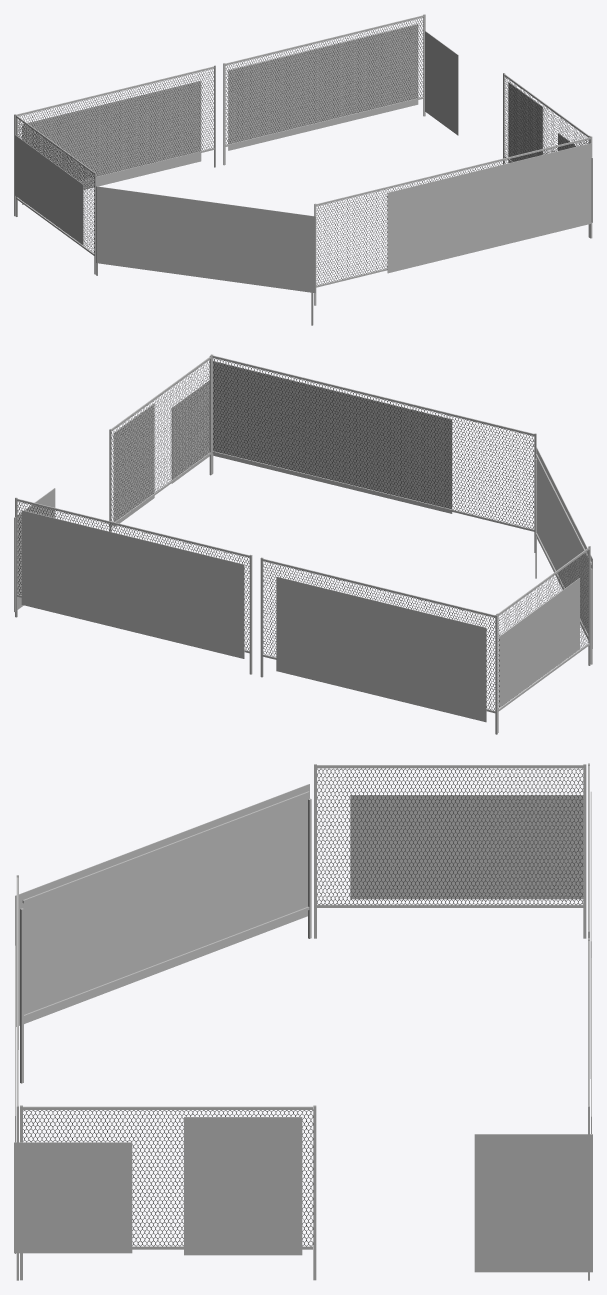
Rendered from mallbil_rooftopfence04c.fbx.
3 views of the same model, one above another, from view 1: azimuth 30°, elevation 25°; view 2: azimuth 150°, elevation 25°; view 3: azimuth 270°, elevation 25° (orthographic). The views are drawn at different scales.
Visible parts, largest first — view 1: mallbil_rooftopfence04c; view 2: mallbil_rooftopfence04c; view 3: mallbil_rooftopfence04c.
Part boxes in pixels (<box>): mallbil_rooftopfence04c: <box>14,14,592,325</box>; mallbil_rooftopfence04c: <box>14,354,592,734</box>; mallbil_rooftopfence04c: <box>14,763,592,1280</box>.
Size of the model in its own units: 921 by 261 by 655.
